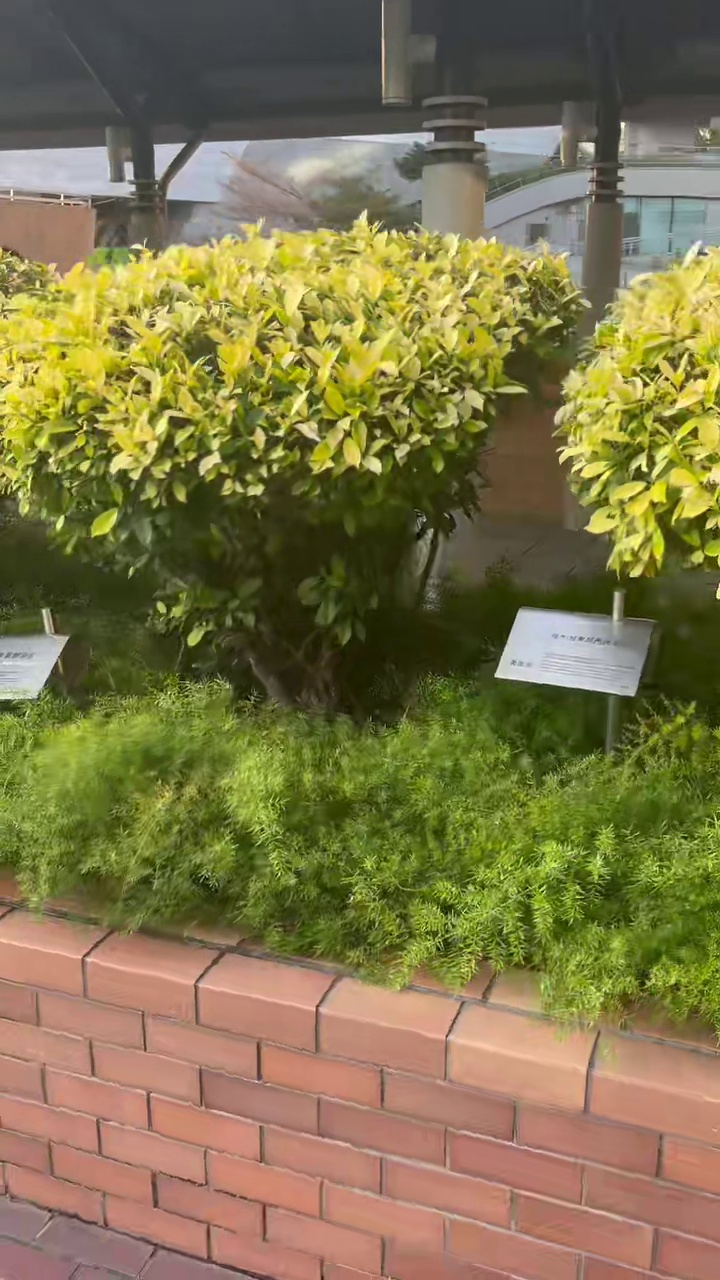Golden-leaves Fig: (0, 220, 579, 709)
